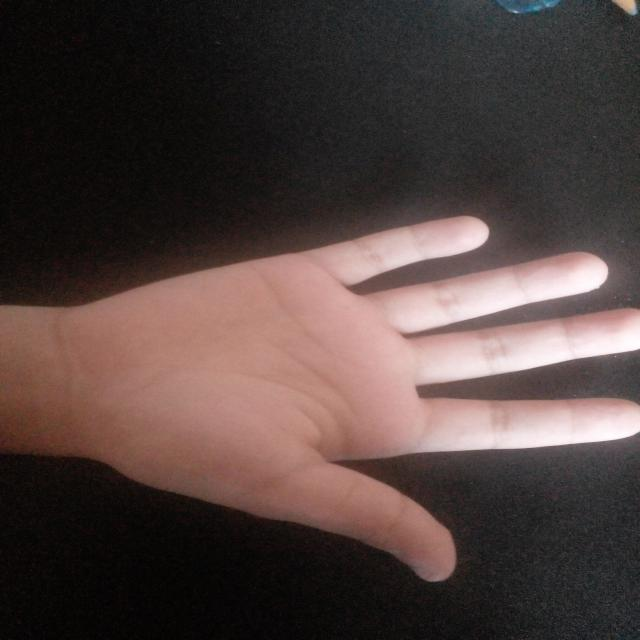Open Hand: (56, 173, 640, 590)
